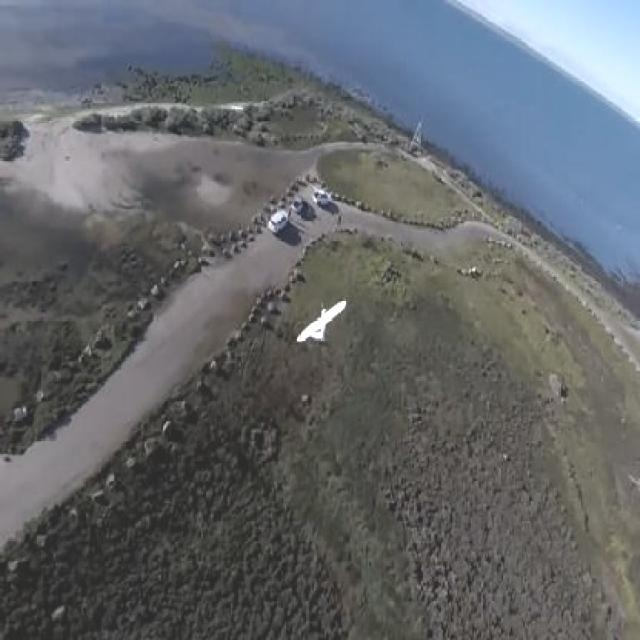iha: (321, 291, 325, 353)
